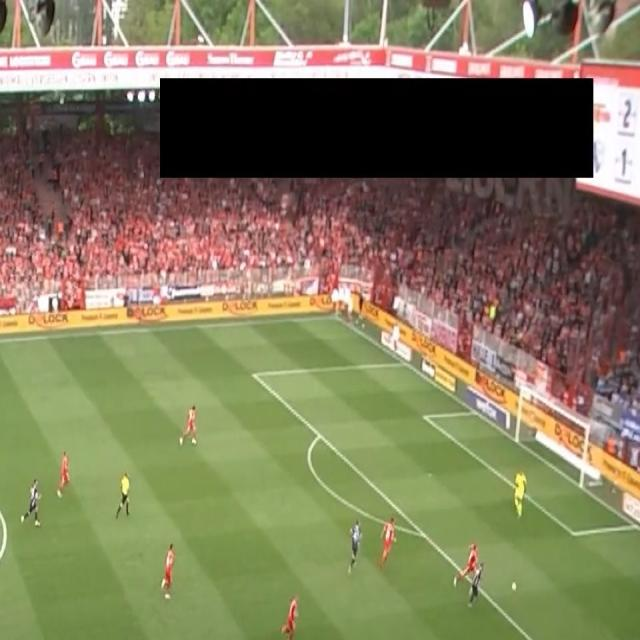ball: (511, 580, 518, 592)
